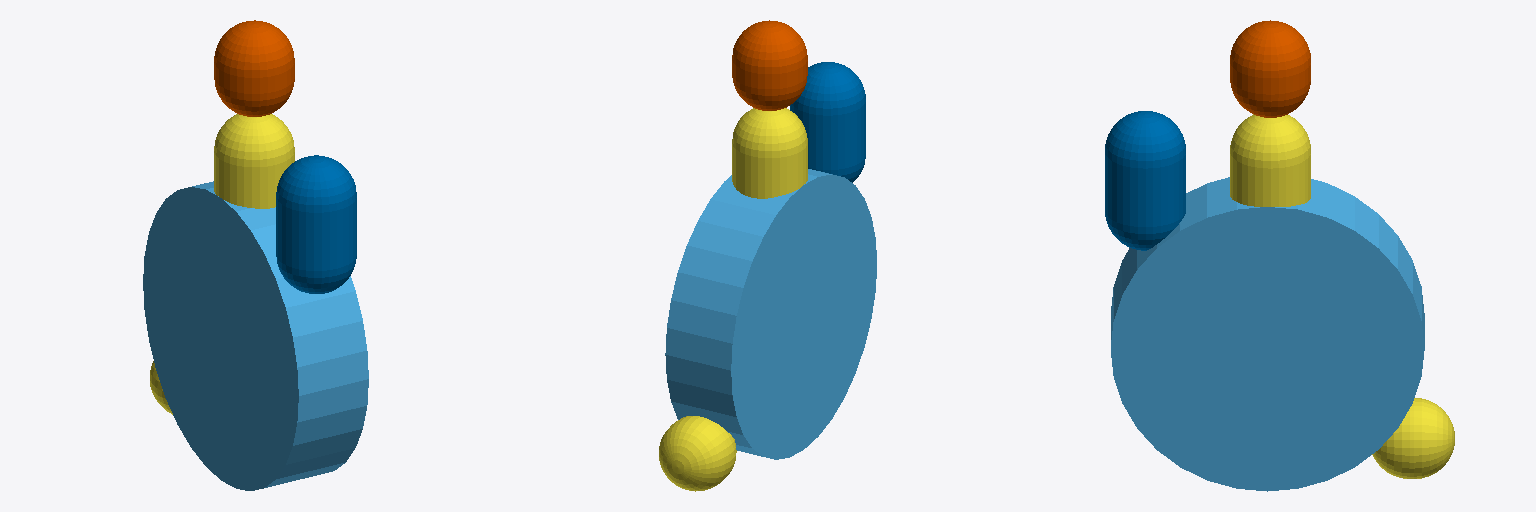
The robot description file, URDF, robot "DexterousHand":
<?xml version="1.0"?>
<robot name="DexterousHand">


    <link name="world"/>
    <joint name="world_to_palm" type="fixed">
        <parent link="world"/>
        <child link="palm"/>
        <origin xyz="0 0 0" rpy="0 0 0"/>
    </joint>
    <link name="palm">
        <inertial>
            <origin xyz="0 0 0.057" rpy="0 0 0"/>
            <mass value="0.30212892864"/>
            <inertia ixx="0.00049080844457568" ixy="0.0" ixz="0.0" iyy="0.00026746366246427523" iyz="0.0" izz="0.00026746366246427523"/>
        </inertial>
        <visual>
            <origin xyz="0 0 0.057" rpy="1.5708 0 1.5708"/>
            <geometry>
                <cylinder radius="0.057" length="0.0296"/>
            </geometry>
            <material name="default"/>
        </visual>
        <collision>
            <origin xyz="0 0 0.057" rpy="1.5708 0 1.5708"/>
            <geometry>
                <cylinder radius="0.057" length="0.0296"/>
            </geometry>
        </collision>
    </link>

    
    <joint name="thumb_joint1" type="revolute">
        <parent link="palm"/>
        <child link="thumb_base"/>
        <origin xyz="0.0029 0.0368 0.0157" rpy="-1.5708 -1.5708 0.0"/>
        <axis xyz="-1 0 0"/>
        <limit lower="-0.349" upper="2.094" effort="1.0" velocity="1.0"/>
    </joint>

    <link name="thumb_base"></link>

    <joint name="thumb_joint2" type="revolute">
        <parent link="thumb_base"/>
        <child link="thumb_proximal"/>
        <origin xyz="0.0 0.0 0.0" rpy="0.0 0.0 0.0"/>
        <axis xyz="0 0 1"/>
        <limit lower="-0.47" upper="2.443" effort="1.0" velocity="1.0"/>
    </joint>

    <link name="thumb_proximal">
        <inertial>
            <origin xyz="0 0 0.01565" rpy="0 0 0"/>
            <mass value="0.021538658803200002"/>
            <inertia ixx="2.9378910096388167e-06" ixy="0.0" ixz="0.0" 
            iyy="2.9378910096388167e-06" iyz="0.0" izz="2.358913912126464e-06"/>
        </inertial>
        <visual>
            <origin xyz="0 0 0.01565" rpy="0 0 0"/>
            <geometry>
                <cylinder radius="0.0148" length="0.0017000000000000001"/>
            </geometry>
            <material name="default"/>
        </visual>
        <visual>
            <origin xyz="0 0 0.0148" rpy="0 0 0"/>
            <geometry>
                <sphere radius="0.0148"/>
            </geometry>
            <material name="default"/>
        </visual>
        <visual>
            <origin xyz="0 0 0.0165" rpy="0 0 0"/>
            <geometry>
                <sphere radius="0.0148"/>
            </geometry>
            <material name="default"/>
        </visual>
        <collision>
            <origin xyz="0 0 0.01565" rpy="0 0 0"/>
            <geometry>
                <cylinder radius="0.0148" length="0.0017000000000000001"/>
            </geometry>
        </collision>
        <collision>
            <origin xyz="0 0 0.0148" rpy="0 0 0"/>
            <geometry>
                <sphere radius="0.0148"/>
            </geometry>
        </collision>
        <collision>
            <origin xyz="0 0 0.0165" rpy="0 0 0"/>
            <geometry>
                <sphere radius="0.0148"/>
            </geometry>
        </collision>
    </link>

    <joint name="thumb_joint3" type="revolute">
        <parent link="thumb_proximal"/>
        <child link="thumb_knuckle"/>
        <origin xyz="0.0 0.0 0.0" rpy="0.0 0.0 0.0"/>
        <axis xyz="1 0 0"/>
        <limit lower="0.0" upper="0.0" effort="1.0" velocity="1.0"/>
    </joint>

    <link name="thumb_knuckle"></link>

    <joint name="thumb_joint4" type="revolute">
        <parent link="thumb_knuckle"/>
        <child link="thumb_middle"/>
        <origin xyz="0 0 0" rpy="0 0 0"/> 
        <axis xyz="0 1 0"/>
        <limit lower="0.0" upper="0.0" effort="1.0" velocity="1.0"/>
    </joint>

    <link name="thumb_middle">
    </link>

    <joint name="thumb_joint5" type="revolute">
        <parent link="thumb_middle"/>
        <child link="thumb_distal"/>
        <origin xyz="0 0 0" rpy="0 0 0"/> 
        <axis xyz="0 1 0"/>
        <limit lower="0.0" upper="0.0" effort="1.0" velocity="1.0"/>
    </joint>

    <link name="thumb_distal">
    </link>

    
    <joint name="index_joint1" type="revolute">
        <parent link="palm"/>
        <child link="index_proximal"/>
        <origin xyz="0.0 0.0 0.0" rpy="0.0 0.0 0.0"/>
        <axis xyz="1 0 0"/>
        <limit lower="0.0" upper="0.0" effort="1.0" velocity="1.0"/>
    </joint>

    <link name="index_proximal">
    </link>

    <joint name="index_joint2" type="revolute">
        <parent link="index_proximal"/>
        <child link="index_dummy"/>
        <origin xyz="0.0 0.0 0.0" rpy="0.0 0.0 0.0"/>
        <axis xyz="0 1 0"/>
        <limit lower="0.0" upper="0.0" effort="1.0" velocity="1.0"/>
    </joint>

    <link name="index_dummy"></link>

    <joint name="index_joint3" type="revolute">
        <parent link="index_dummy"/>
        <child link="index_middle"/>
        <origin xyz="0 0 0" rpy="0 0 0"/>
        <axis xyz="0 1 0"/>
        <limit lower="0.0" upper="0.0" effort="1.0" velocity="1.0"/>
    </joint>

    <link name="index_middle">
    </link>

    <joint name="index_joint4" type="revolute">
        <parent link="index_middle"/>
        <child link="index_distal"/>
        <origin xyz="0 0 0" rpy="0 0 0"/> 
        <axis xyz="0 1 0"/>
        <limit lower="0.0" upper="0.0" effort="1.0" velocity="1.0"/>
    </joint>

    <link name="index_distal">
    </link>

    
    <joint name="middle_joint1" type="revolute">
        <parent link="palm"/>
        <child link="middle_proximal"/>
        <origin xyz="0.0 0.0011 0.091" rpy="0.0 0.0 0.0"/>
        <axis xyz="0 1 0"/>
        <limit lower="-0.314" upper="2.23" effort="1.0" velocity="1.0"/>
    </joint>

    <link name="middle_proximal">
        <inertial>
            <origin xyz="0 0 0.02655" rpy="0 0 0"/>
            <mass value="0.036540024998400006"/>
            <inertia ixx="1.058665009272394e-05" ixy="0.0" ixz="0.0" 
            iyy="1.058665009272394e-05" iyz="0.0" izz="4.001863537824769e-06"/>
        </inertial>
        <visual>
            <origin xyz="0 0 0.02655" rpy="0 0 0"/>
            <geometry>
                <cylinder radius="0.0148" length="0.0235"/>
            </geometry>
            <material name="default"/>
        </visual>
        <visual>
            <origin xyz="0 0 0.0148" rpy="0 0 0"/>
            <geometry>
                <sphere radius="0.0148"/>
            </geometry>
            <material name="default"/>
        </visual>
        <visual>
            <origin xyz="0 0 0.0383" rpy="0 0 0"/>
            <geometry>
                <sphere radius="0.0148"/>
            </geometry>
            <material name="default"/>
        </visual>
        <collision>
            <origin xyz="0 0 0.02655" rpy="0 0 0"/>
            <geometry>
                <cylinder radius="0.0148" length="0.0235"/>
            </geometry>
        </collision>
        <collision>
            <origin xyz="0 0 0.0148" rpy="0 0 0"/>
            <geometry>
                <sphere radius="0.0148"/>
            </geometry>
        </collision>
        <collision>
            <origin xyz="0 0 0.0383" rpy="0 0 0"/>
            <geometry>
                <sphere radius="0.0148"/>
            </geometry>
        </collision>
    </link>

    <joint name="middle_joint2" type="revolute">
        <parent link="middle_proximal"/>
        <child link="middle_dummy"/>
        <origin xyz="0.0 0.0 0.038" rpy="0.0 0.0 0.0"/>
        <axis xyz="1 0 0"/>
        <limit lower="-1.047" upper="1.047" effort="1.0" velocity="1.0"/>
    </joint>

    <link name="middle_dummy"></link>

    <joint name="middle_joint3" type="revolute">
        <parent link="middle_dummy"/>
        <child link="middle_middle"/>
        <origin xyz="0 0 0.015100000000000002" rpy="0 0 0"/>
        <axis xyz="0 1 0"/>
        <limit lower="-0.506" upper="1.885" effort="1.0" velocity="1.0"/>
    </joint>

    <link name="middle_middle">
        <inertial>
            <origin xyz="0 0 0.01805" rpy="0 0 0"/>
            <mass value="0.0248417119104"/>
            <inertia ixx="4.058162759109537e-06" ixy="0.0" ixz="0.0" 
            iyy="4.058162759109537e-06" iyz="0.0" izz="2.7206642884270085e-06"/>
        </inertial>
        <visual>
            <origin xyz="0 0 0.01805" rpy="0 0 0"/>
            <geometry>
                <cylinder radius="0.0148" length="0.006499999999999999"/>
            </geometry>
            <material name="default"/>
        </visual>
        <visual>
            <origin xyz="0 0 0.0148" rpy="0 0 0"/>
            <geometry>
                <sphere radius="0.0148"/>
            </geometry>
            <material name="default"/>
        </visual>
        <visual>
            <origin xyz="0 0 0.0213" rpy="0 0 0"/>
            <geometry>
                <sphere radius="0.0148"/>
            </geometry>
            <material name="default"/>
        </visual>
        <collision>
            <origin xyz="0 0 0.01805" rpy="0 0 0"/>
            <geometry>
                <cylinder radius="0.0148" length="0.006499999999999999"/>
            </geometry>
        </collision>
        <collision>
            <origin xyz="0 0 0.0148" rpy="0 0 0"/>
            <geometry>
                <sphere radius="0.0148"/>
            </geometry>
        </collision>
        <collision>
            <origin xyz="0 0 0.0213" rpy="0 0 0"/>
            <geometry>
                <sphere radius="0.0148"/>
            </geometry>
        </collision>
    </link>

    <joint name="middle_joint4" type="revolute">
        <parent link="middle_middle"/>
        <child link="middle_distal"/>
        <origin xyz="0 0 0.0361" rpy="0 0 0"/> 
        <axis xyz="0 1 0"/>
        <limit lower="0.0" upper="0.0" effort="1.0" velocity="1.0"/>
    </joint>

    <link name="middle_distal">
    </link>

    
    <joint name="ring_joint1" type="revolute">
        <parent link="palm"/>
        <child link="ring_proximal"/>
        <origin xyz="0.0 0.0 0.0" rpy="0.0 0.0 0.0"/>
        <axis xyz="1 0 0"/>
        <limit lower="0.0" upper="0.0" effort="1.0" velocity="1.0"/>
    </joint>

    <link name="ring_proximal">
    </link>

    <joint name="ring_joint2" type="revolute">
        <parent link="ring_proximal"/>
        <child link="ring_dummy"/>
        <origin xyz="0.0 0.0 0.0" rpy="0.0 0.0 0.0"/>
        <axis xyz="0 1 0"/>
        <limit lower="0.0" upper="0.0" effort="1.0" velocity="1.0"/>
    </joint>

    <link name="ring_dummy"></link>

    <joint name="ring_joint3" type="revolute">
        <parent link="ring_dummy"/>
        <child link="ring_middle"/>
        <origin xyz="0 0 0" rpy="0 0 0"/>
        <axis xyz="0 1 0"/>
        <limit lower="0.0" upper="0.0" effort="1.0" velocity="1.0"/>
    </joint>

    <link name="ring_middle">
    </link>

    <joint name="ring_joint4" type="revolute">
        <parent link="ring_middle"/>
        <child link="ring_distal"/>
        <origin xyz="0 0 0" rpy="0 0 0"/> 
        <axis xyz="0 1 0"/>
        <limit lower="0.0" upper="0.0" effort="1.0" velocity="1.0"/>
    </joint>

    <link name="ring_distal">
    </link>

    
    <joint name="little_joint0" type="revolute">
        <parent link="palm"/>
        <child link="little_base"/>
        <origin xyz="0.0 0.0 0.0" rpy="0.0 0.0 0.0"/>
        <axis xyz="0 1 0"/>
        <limit lower="0.0" upper="0.0" effort="1.0" velocity="1.0"/>
    </joint>

    <link name="little_base"></link>

    <joint name="little_joint1" type="revolute">
        <parent link="little_base"/>
        <child link="little_proximal"/>
        <origin xyz="0.0 -0.0443 0.091" rpy="-0.0 -0.0 -0.0"/>
        <axis xyz="0 1 0"/>
        <limit lower="-0.314" upper="2.23" effort="1.0" velocity="1.0"/>
    </joint>

    <link name="little_proximal">
        <inertial>
            <origin xyz="0 0 0.02655" rpy="0 0 0"/>
            <mass value="0.036540024998400006"/>
            <inertia ixx="1.058665009272394e-05" ixy="0.0" ixz="0.0" 
            iyy="1.058665009272394e-05" iyz="0.0" izz="4.001863537824769e-06"/>
        </inertial>
        <visual>
            <origin xyz="0 0 0.02655" rpy="0 0 0"/>
            <geometry>
                <cylinder radius="0.0148" length="0.0235"/>
            </geometry>
            <material name="default"/>
        </visual>
        <visual>
            <origin xyz="0 0 0.0148" rpy="0 0 0"/>
            <geometry>
                <sphere radius="0.0148"/>
            </geometry>
            <material name="default"/>
        </visual>
        <visual>
            <origin xyz="0 0 0.0383" rpy="0 0 0"/>
            <geometry>
                <sphere radius="0.0148"/>
            </geometry>
            <material name="default"/>
        </visual>
        <collision>
            <origin xyz="0 0 0.02655" rpy="0 0 0"/>
            <geometry>
                <cylinder radius="0.0148" length="0.0235"/>
            </geometry>
        </collision>
        <collision>
            <origin xyz="0 0 0.0148" rpy="0 0 0"/>
            <geometry>
                <sphere radius="0.0148"/>
            </geometry>
        </collision>
        <collision>
            <origin xyz="0 0 0.0383" rpy="0 0 0"/>
            <geometry>
                <sphere radius="0.0148"/>
            </geometry>
        </collision>
    </link>

    <joint name="little_joint2" type="revolute">
        <parent link="little_proximal"/>
        <child link="little_dummy"/>
        <origin xyz="0.0 0.0 0.038" rpy="0.0 0.0 0.0"/>
        <axis xyz="0 1 0"/>
        <limit lower="0.0" upper="0.0" effort="1.0" velocity="1.0"/>
    </joint>

    <link name="little_dummy"></link>

    <joint name="little_joint3" type="revolute">
        <parent link="little_dummy"/>
        <child link="little_middle"/>
        <origin xyz="0 0 0.015100000000000002" rpy="0 0 0"/>
        <axis xyz="0 1 0"/>
        <limit lower="0.0" upper="0.0" effort="1.0" velocity="1.0"/>
    </joint>

    <link name="little_middle">
    </link>

    <joint name="little_joint4" type="revolute">
        <parent link="little_middle"/>
        <child link="little_distal"/>
        <origin xyz="0 0 0" rpy="0 0 0"/>
        <axis xyz="0 1 0"/>
        <limit lower="0.0" upper="0.0" effort="1.0" velocity="1.0"/>
    </joint>

    <link name="little_distal">
    </link>

</robot>

--- Render facts (derived) ---
3 views of the same robot in one strip: view 1: azimuth 30°, elevation 25°; view 2: azimuth 150°, elevation 25°; view 3: azimuth 270°, elevation 25° (orthographic).
Model DexterousHand with 24 links and 23 joints (22 revolute, 1 fixed), rooted at world, posed every joint at zero.
Visible links, largest first — view 1: palm, little_proximal, middle_middle, middle_proximal; view 2: palm, little_proximal, middle_proximal, middle_middle, thumb_proximal; view 3: palm, little_proximal, middle_proximal, middle_middle, thumb_proximal.
Boxes of the visible links, x1,y1,x2,y2 form: palm: [143, 181, 368, 490]; little_proximal: [276, 155, 356, 293]; middle_middle: [214, 20, 294, 116]; middle_proximal: [214, 114, 294, 208]; palm: [665, 169, 876, 459]; little_proximal: [790, 62, 865, 182]; middle_proximal: [732, 108, 807, 198]; middle_middle: [732, 20, 807, 110]; thumb_proximal: [659, 416, 736, 491]; palm: [1111, 177, 1424, 491]; little_proximal: [1105, 111, 1185, 250]; middle_proximal: [1230, 114, 1310, 206]; middle_middle: [1230, 20, 1310, 117]; thumb_proximal: [1372, 398, 1454, 478].
Size in the robot's own frame: 0.0325 by 0.1272 by 0.1802 metres.
Geometry: primitives only (box / cylinder / sphere), no mesh files.
